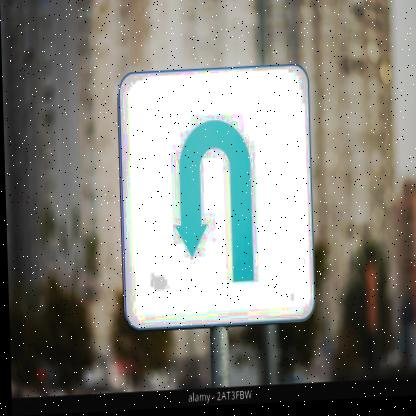U-turn: (144, 101, 282, 313)
